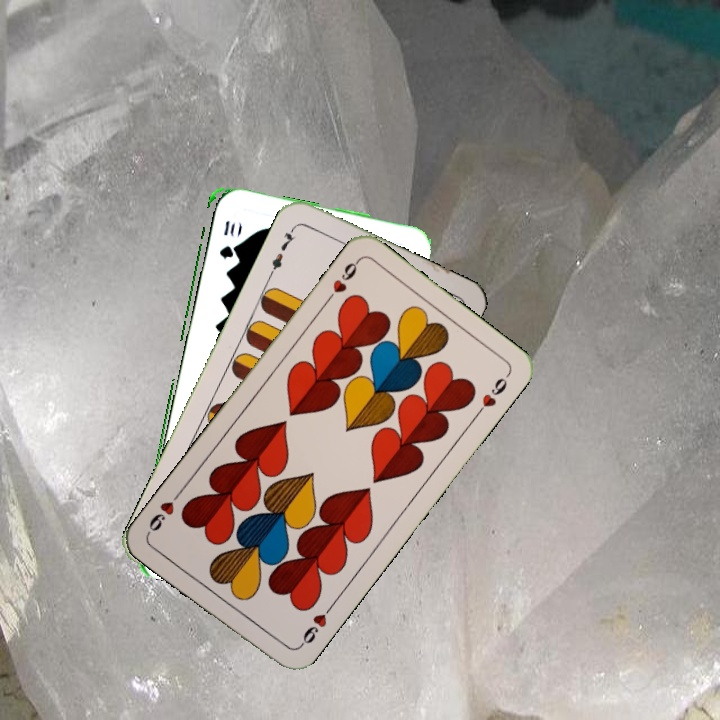E7: (265, 222, 298, 278)
G10: (215, 216, 238, 261)
H9: (321, 255, 363, 306), (295, 600, 336, 651)
